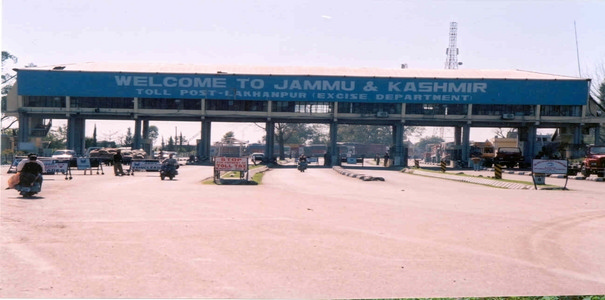toll plaza: (14, 54, 538, 160)
